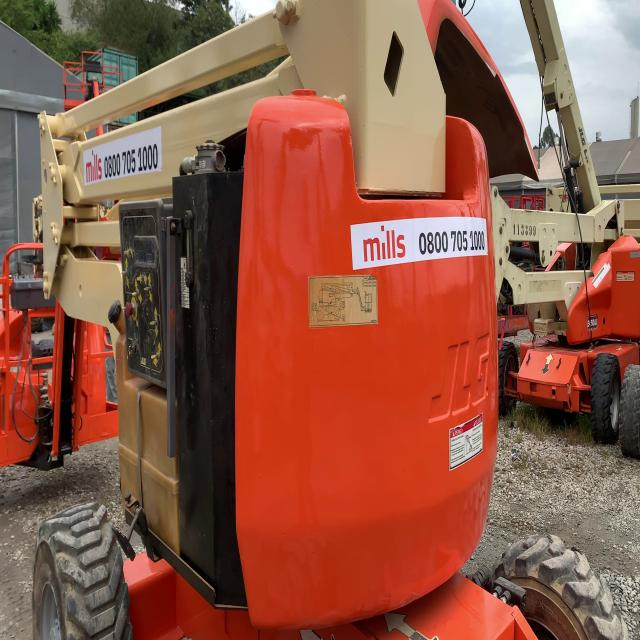Adesivo Longo: (348, 216, 489, 274), (81, 124, 163, 187)
